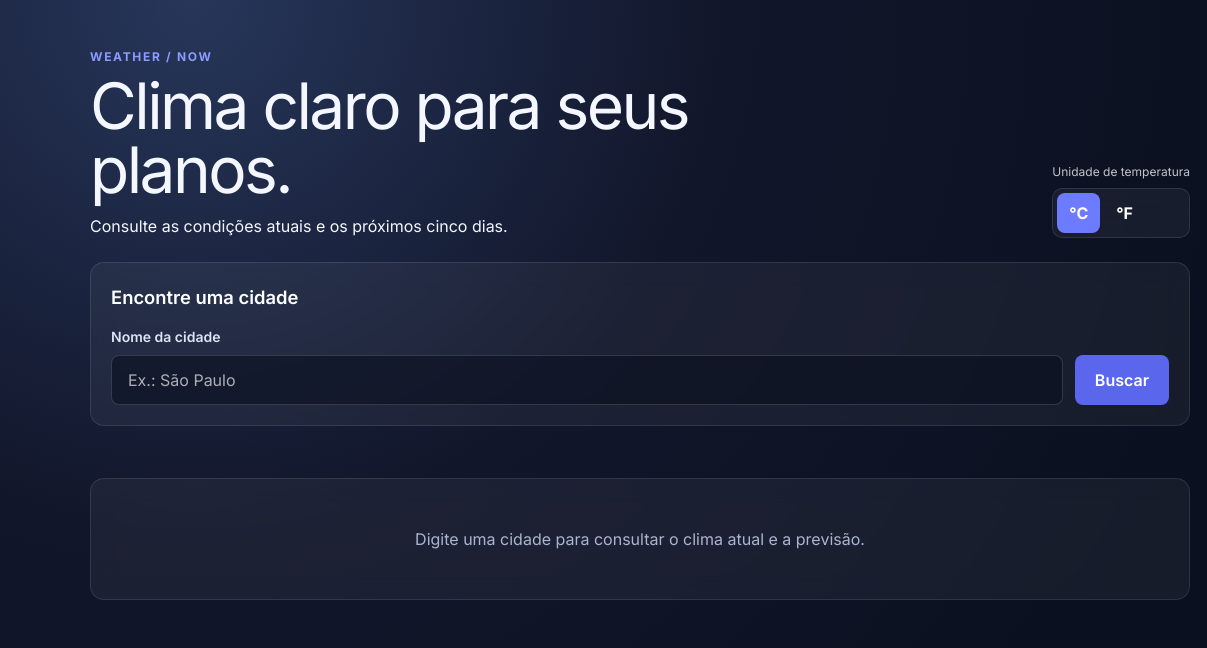
Scenario: App › shows validation and empty states
The width and height of the screenshot is (1207, 648).
Click the button "Buscar" at (1122, 380), box [1075,355,1169,405]
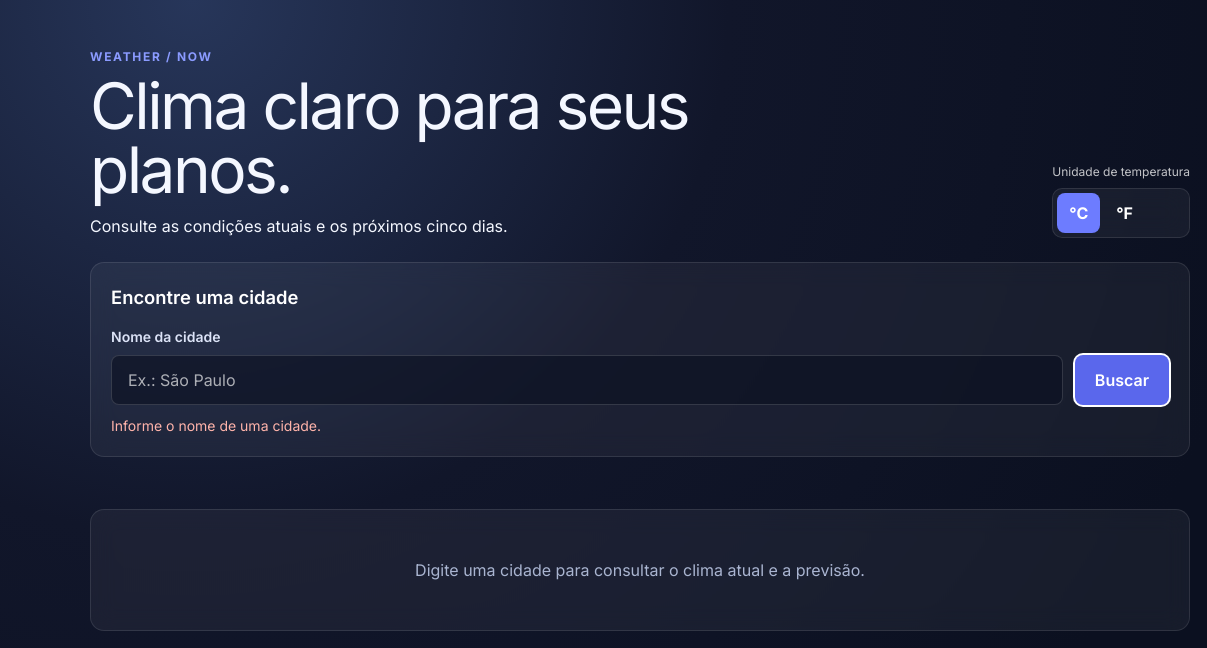
Now the message "Informe o nome de uma cidade." is shown, box [111,417,321,434]
Type "Atlantis" into the field labelled "Nome da cidade" at (587, 380), box [111,355,1063,405]
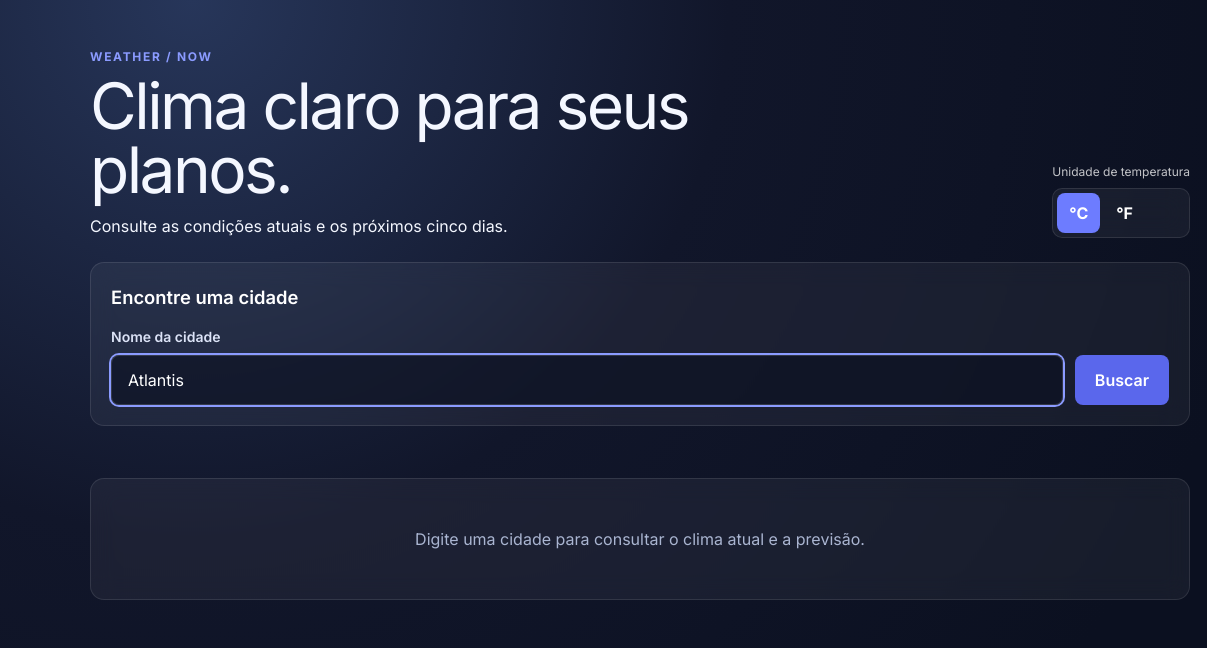
Click the button "Buscar" at (1122, 380), box [1075,355,1169,405]
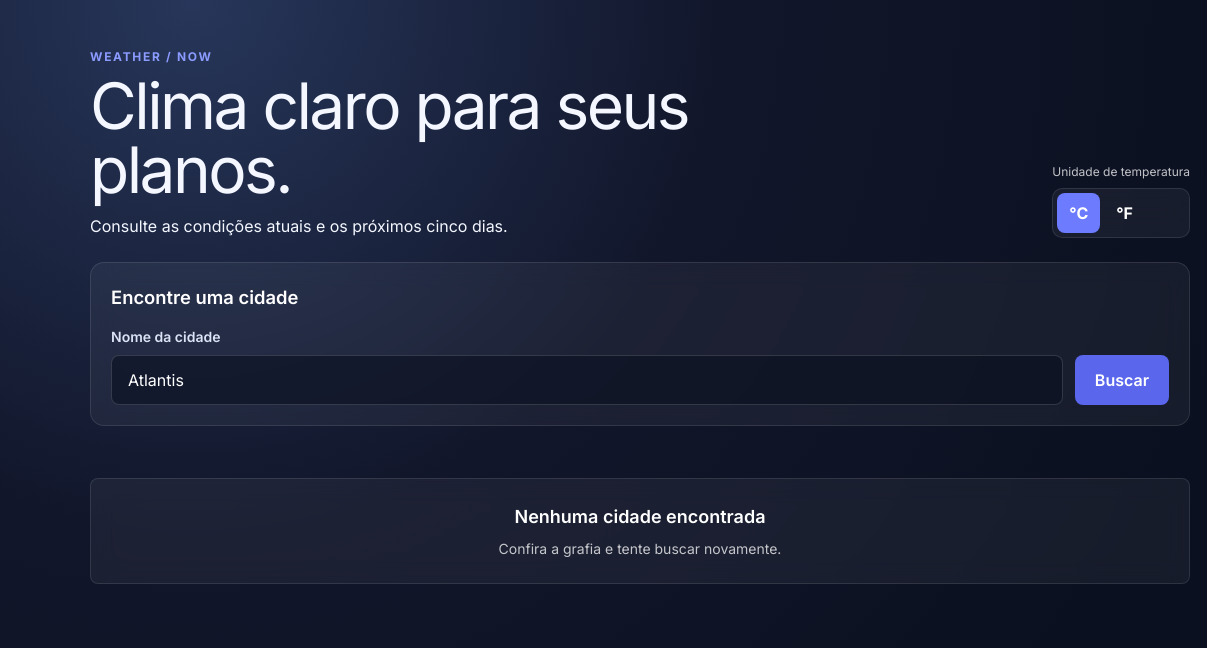
Now the message shows "Nenhuma cidade encontrada", box [514,506,766,527]
